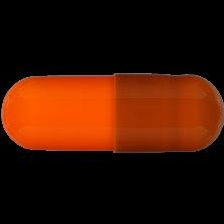42291-624: (0, 0, 224, 224)
